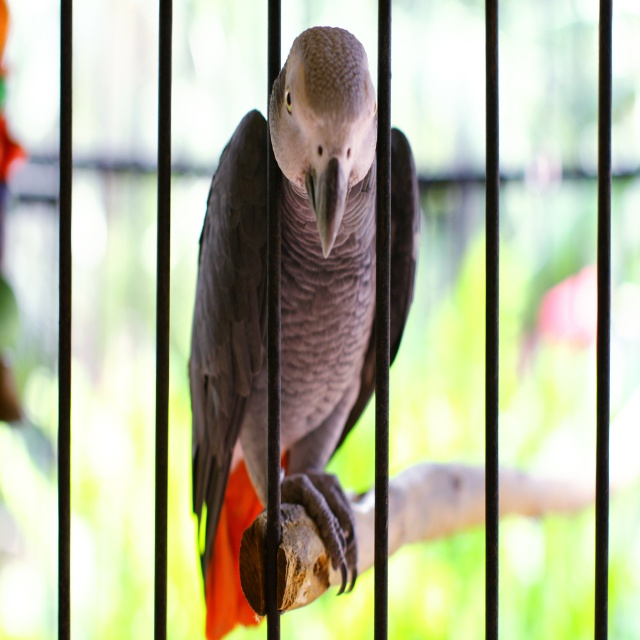Parrot: (184, 22, 422, 593)
